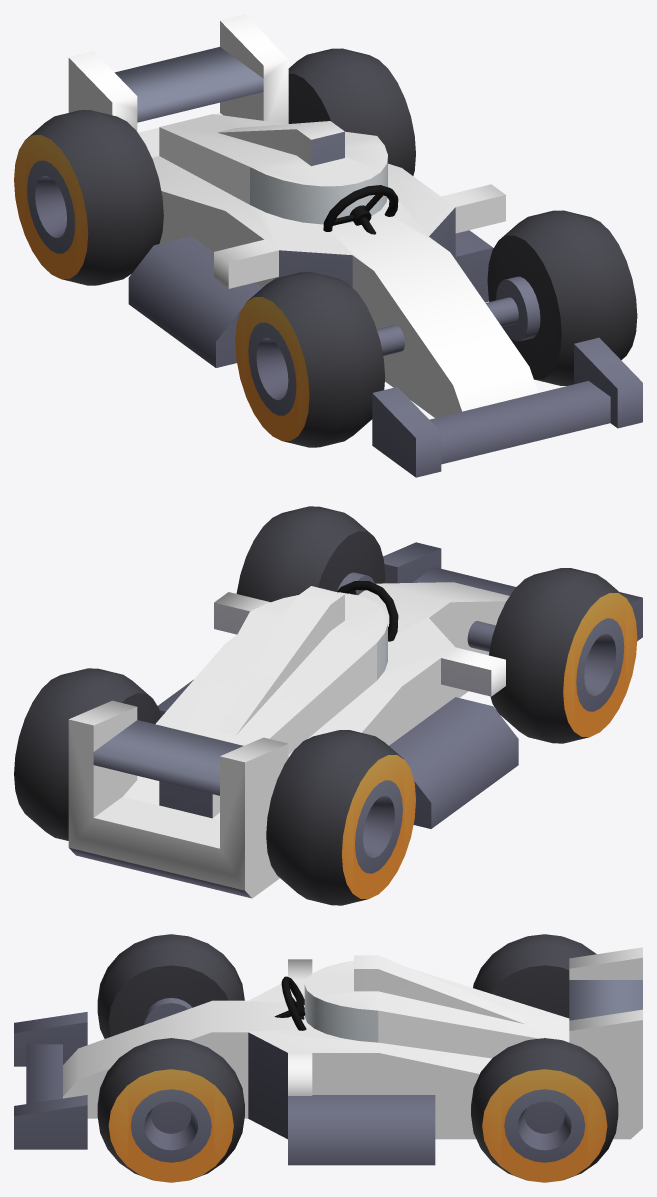
The model's file is sports.glb.
3 views of the same model, one above another, from view 1: azimuth 30°, elevation 25°; view 2: azimuth 150°, elevation 25°; view 3: azimuth 270°, elevation 25° (orthographic). The views are drawn at different scales.
Visible parts, largest first — view 1: paint, body, wheel-back-right, wheel-front-right, wheel-front-left, wheel-back-left, steering-wheel; view 2: paint, body, wheel-back-right, wheel-front-right, wheel-back-left, wheel-front-left, steering-wheel; view 3: paint, body, wheel-back-left, wheel-front-left, wheel-front-right, wheel-back-right, steering-wheel.
Part boxes in pixels (x1,y1,x2,y2): paint: [68, 14, 538, 418]; body: [114, 47, 642, 477]; wheel-back-right: [14, 110, 163, 285]; wheel-front-right: [235, 272, 385, 447]; wheel-front-left: [487, 210, 637, 385]; wheel-back-left: [288, 48, 415, 175]; steering-wheel: [323, 185, 398, 234]; paint: [68, 582, 509, 898]; body: [69, 542, 642, 898]; wheel-back-right: [266, 730, 415, 905]; wheel-front-right: [489, 568, 637, 743]; wheel-back-left: [14, 668, 161, 840]; wheel-front-left: [236, 506, 385, 602]; steering-wheel: [337, 581, 398, 641]; paint: [63, 947, 642, 1139]; body: [14, 980, 642, 1165]; wheel-back-left: [471, 1038, 618, 1182]; wheel-front-left: [97, 1038, 244, 1182]; wheel-front-right: [97, 934, 244, 1038]; wheel-back-right: [473, 934, 596, 1018]; steering-wheel: [274, 976, 306, 1030].
Size of the model in its own units: 2.02 by 1.14 by 3.97.
Materials: 3 (1 with a texture image).
